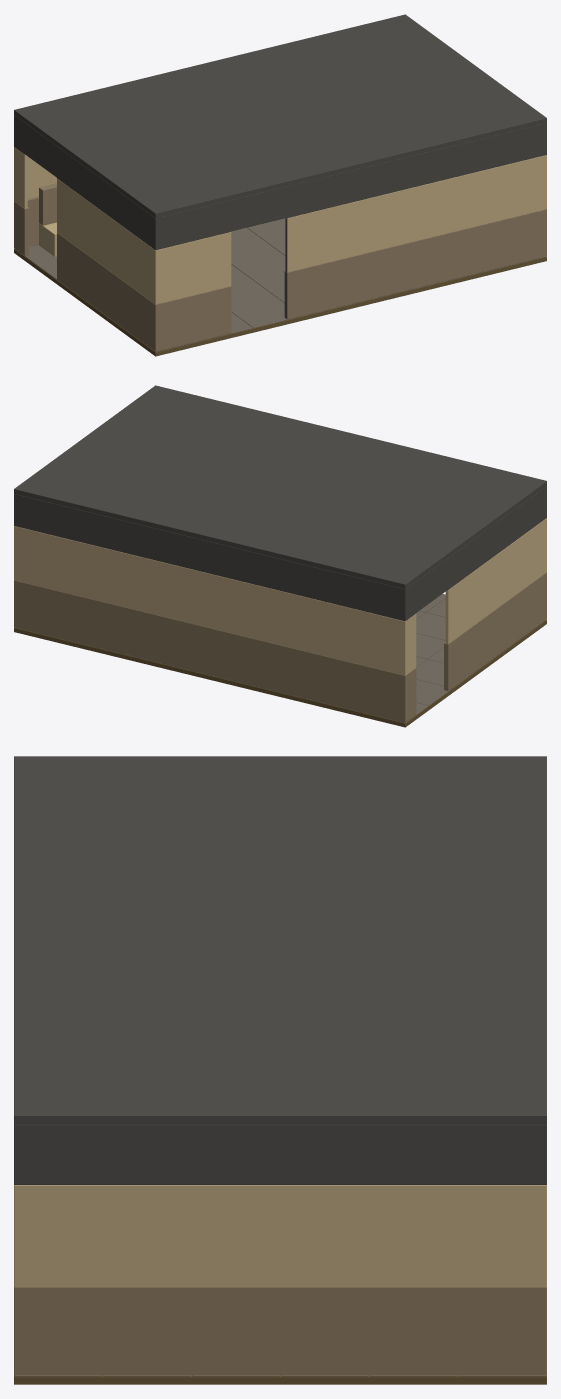
The model's file is gen-mess.glb.
The picture shows the model from 3 angles, top to bottom: view 1: azimuth 30°, elevation 25°; view 2: azimuth 150°, elevation 25°; view 3: azimuth 270°, elevation 25°; orthographic projection. The views are drawn at different scales.
Parts seen in each view (by area): view 1: THE MESS; view 2: THE MESS; view 3: THE MESS.
Part boxes in pixels (bbox=[...]): THE MESS: bbox=[14, 14, 546, 356]; THE MESS: bbox=[14, 385, 546, 727]; THE MESS: bbox=[14, 756, 546, 1384].
Bounding box in the file's own units: 8.3 × 2.9 × 5.2.
